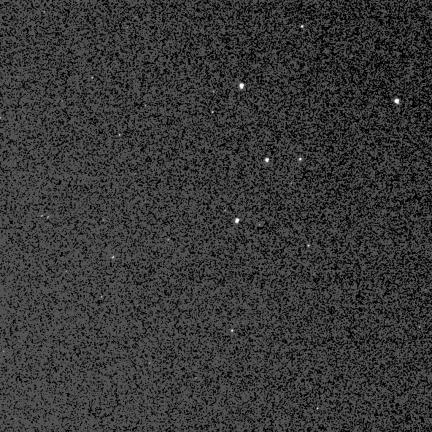blob: (395, 99, 400, 104), (235, 219, 240, 224), (240, 83, 244, 89), (265, 158, 269, 162), (301, 25, 305, 29), (299, 158, 303, 161), (231, 330, 234, 333), (308, 245, 311, 248)
